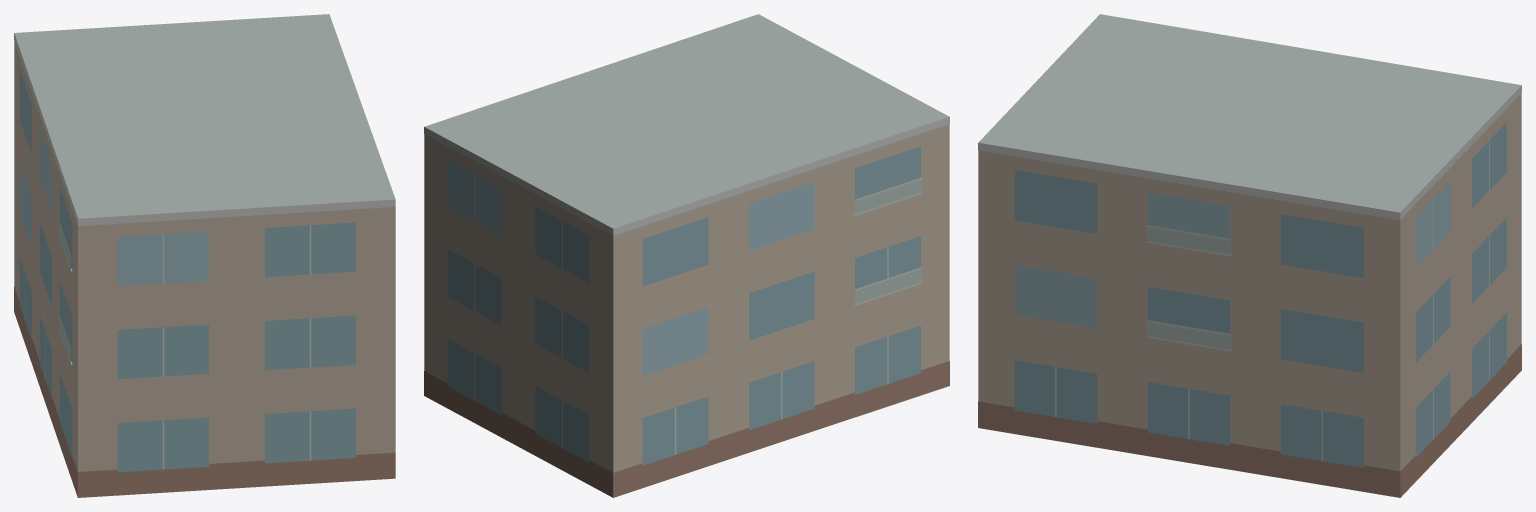
File: survey-upis-32692882.glb
3 renders of one model, left to right at view 1: azimuth 30°, elevation 25°; view 2: azimuth 150°, elevation 25°; view 3: azimuth 270°, elevation 25°, orthographic. The views are drawn at different scales.
Visible parts, largest first — view 1: survey-upis-32692882.tmp; view 2: survey-upis-32692882.tmp; view 3: survey-upis-32692882.tmp.
Boxes of the visible parts, bbox=[...] form: survey-upis-32692882.tmp: bbox=[14, 14, 395, 497]; survey-upis-32692882.tmp: bbox=[424, 14, 949, 497]; survey-upis-32692882.tmp: bbox=[978, 14, 1521, 497].
Bounding box in the file's own units: 13.68 × 9.15 × 15.81.
